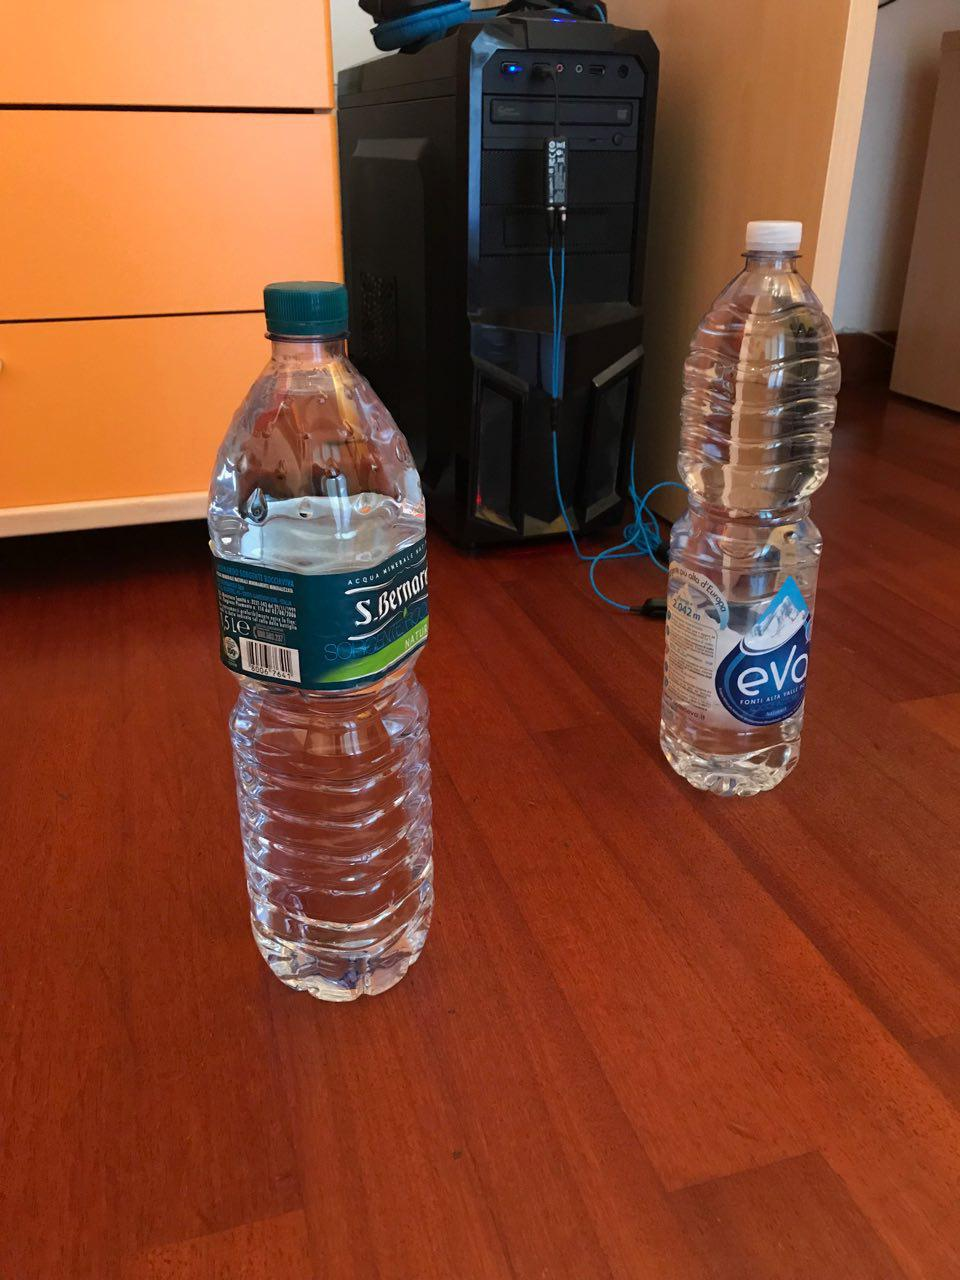san_bernardo: (206, 279, 437, 1005)
